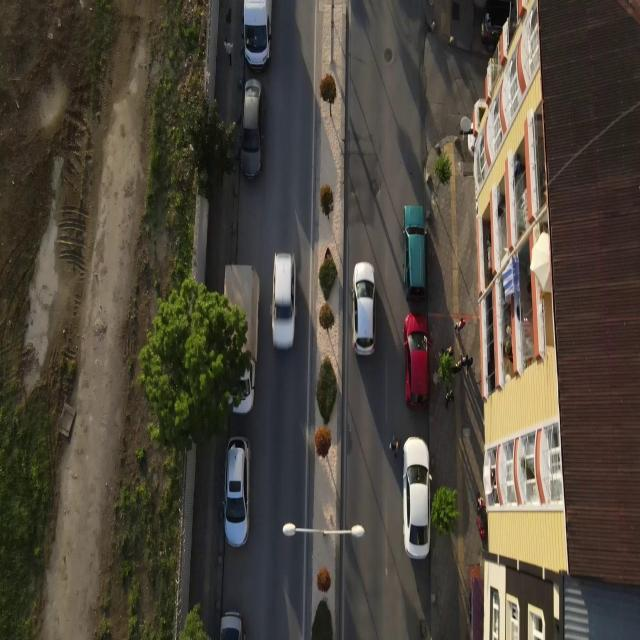p3rson: (224, 36, 234, 70), (389, 433, 400, 458), (445, 385, 455, 410), (453, 315, 466, 334), (455, 351, 468, 368), (441, 344, 454, 358), (466, 356, 474, 375)
